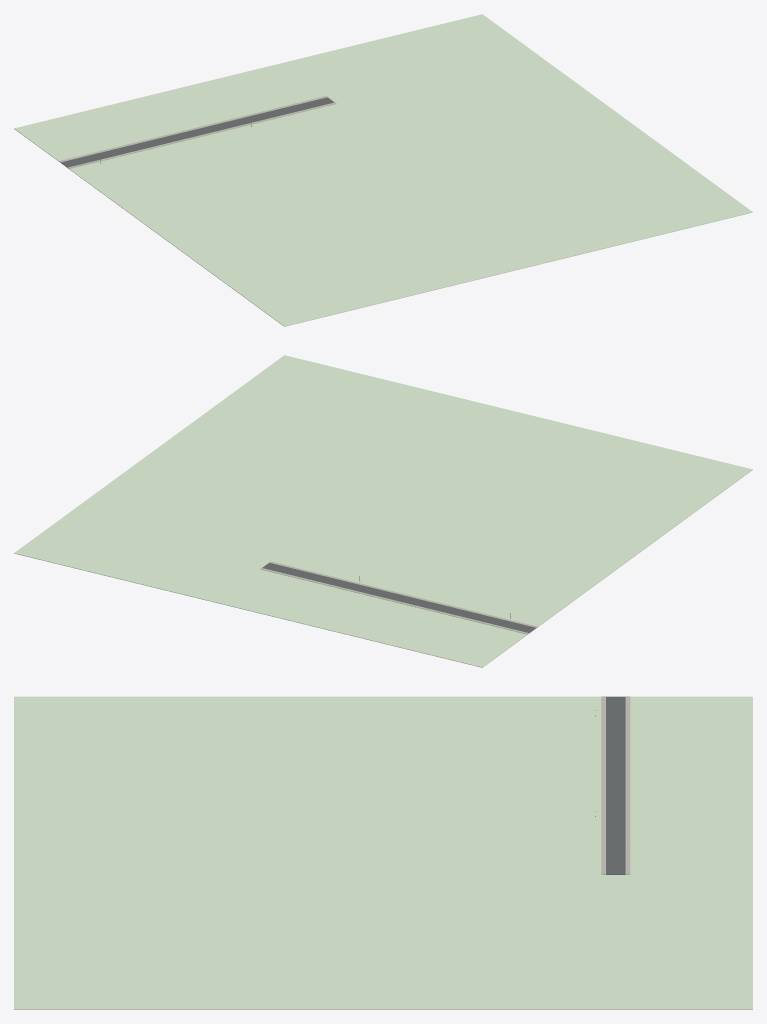
File: chunk_3_4_high.glb
The picture shows the model from 3 angles, top to bottom: view 1: azimuth 30°, elevation 25°; view 2: azimuth 150°, elevation 25°; view 3: azimuth 270°, elevation 25°; orthographic projection. The views are drawn at different scales.
Parts seen in each view (by area): view 1: city_grass, city_world_asphalt, city_world_sidewalk; view 2: city_grass, city_world_asphalt, city_world_sidewalk; view 3: city_grass, city_world_asphalt, city_world_sidewalk, city_curb.
Boxes of the visible parts, bbox=[...] form: city_grass: bbox=[14, 14, 752, 326]; city_world_asphalt: bbox=[61, 97, 334, 167]; city_world_sidewalk: bbox=[59, 96, 336, 168]; city_grass: bbox=[14, 355, 752, 667]; city_world_asphalt: bbox=[262, 563, 535, 632]; city_world_sidewalk: bbox=[260, 561, 537, 634]; city_grass: bbox=[14, 696, 752, 1009]; city_world_asphalt: bbox=[606, 696, 625, 874]; city_world_sidewalk: bbox=[601, 696, 630, 874]; city_curb: bbox=[601, 696, 629, 874].
Bounding box in the file's own units: 512 × 5.42 × 512.
